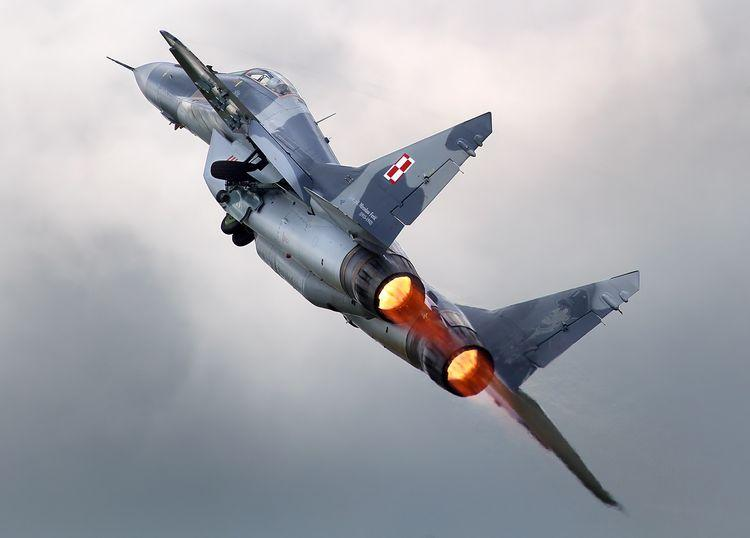Mig-29: (99, 6, 660, 527)
